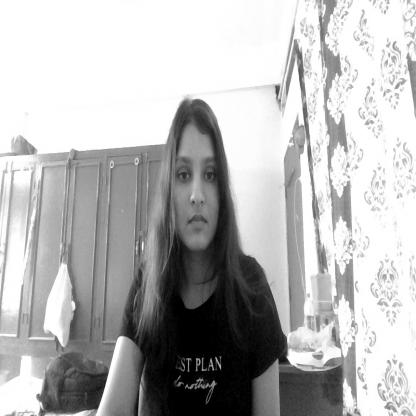Normal: (164, 100, 228, 258)
